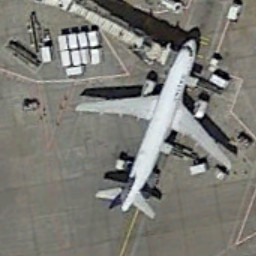Airplane: (61, 26, 238, 228)
